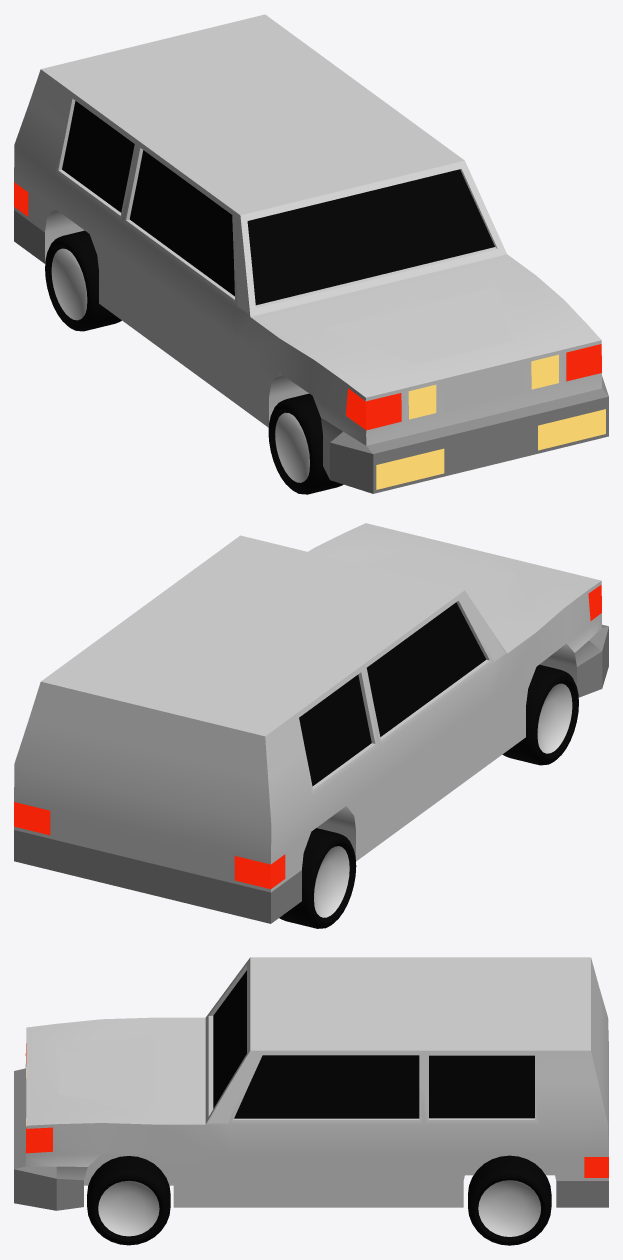
Rendered from low poly car generator.gltf.
3 views of the same model, one above another, from view 1: azimuth 30°, elevation 25°; view 2: azimuth 150°, elevation 25°; view 3: azimuth 270°, elevation 25° (orthographic). The views are drawn at different scales.
Visible parts, largest first — view 1: f; view 2: f; view 3: f.
Part boxes in pixels (bbox=[...]): f: bbox=[14, 14, 608, 494]; f: bbox=[14, 523, 608, 928]; f: bbox=[14, 957, 608, 1245].
Size of the model in its own units: 2.12 by 1.64 by 4.7.
